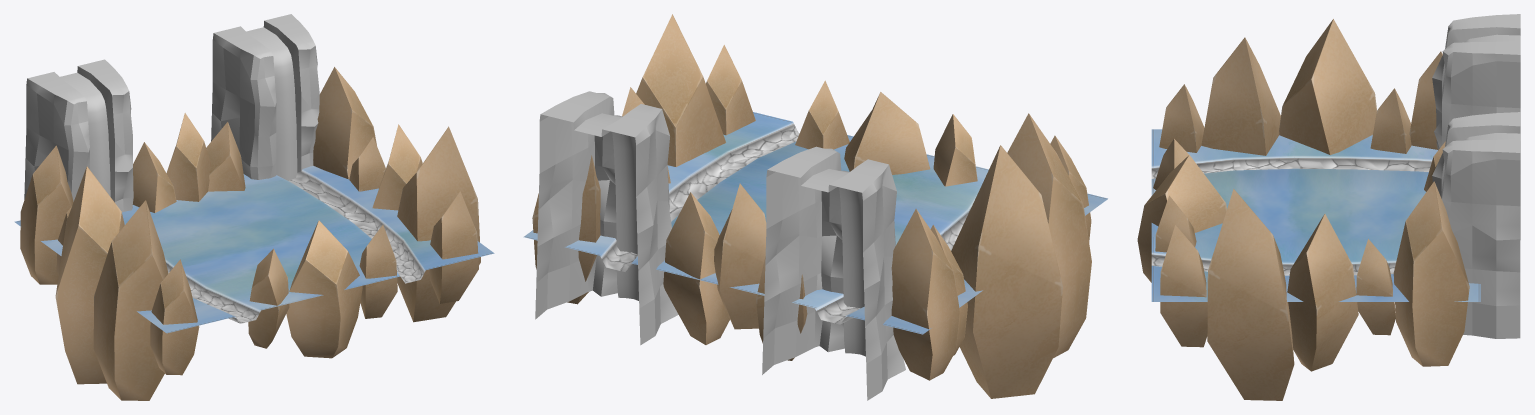
File: water_stage.fbx
3 renders of one model, left to right at view 1: azimuth 30°, elevation 25°; view 2: azimuth 150°, elevation 25°; view 3: azimuth 270°, elevation 25°, orthographic. The views are drawn at different scales.
Visible parts, largest first — view 1: water_stage, waterfall_moderu3, waterfall_moderu2, rock_moderu10, rock_moderu9, rock_moderu16, rock_moderu11, rock_moderu4, rock_moderu5, rock_moderu12, rock_moderu13, rock_moderu14 (+6 smaller); view 2: waterfall_moderu2, waterfall_moderu3, rock_moderu9, water_stage, rock_moderu4, rock_moderu10, rock_moderu11, rock_moderu2, rock_moderu1, rock_moderu16, rock_moderu13, rock_moderu14 (+5 smaller); view 3: water_stage, waterfall_moderu3, rock_moderu11, rock_moderu5, waterfall_moderu2, rock_moderu9, rock_moderu8, rock_moderu10, rock_moderu13, rock_moderu16, rock_moderu7, rock_moderu12 (+4 smaller).
Part boxes in pixels (box(x1,y1,x2,y2)): water_stage: box(14, 165, 494, 333); waterfall_moderu3: box(211, 14, 319, 180); waterfall_moderu2: box(24, 59, 133, 212); rock_moderu10: box(93, 200, 168, 400); rock_moderu9: box(55, 166, 124, 384); rock_moderu16: box(286, 220, 362, 358); rock_moderu11: box(397, 126, 480, 322); rock_moderu4: box(20, 145, 73, 284); rock_moderu5: box(313, 67, 376, 179); rock_moderu12: box(150, 259, 199, 375); rock_moderu13: box(429, 191, 478, 303); rock_moderu14: box(248, 248, 289, 348); waterfall_moderu2: box(762, 146, 905, 400); waterfall_moderu3: box(535, 91, 678, 345); rock_moderu9: box(951, 145, 1062, 398); water_stage: box(523, 112, 1107, 334); rock_moderu4: box(891, 209, 959, 380); rock_moderu10: box(1007, 113, 1091, 358); rock_moderu11: box(636, 14, 725, 166); rock_moderu2: box(663, 192, 729, 344); rock_moderu1: box(714, 183, 766, 329); rock_moderu16: box(844, 92, 930, 174); rock_moderu13: box(706, 45, 755, 135); rock_moderu14: box(933, 114, 977, 186); water_stage: box(1151, 129, 1480, 301); waterfall_moderu3: box(1432, 112, 1520, 338); rock_moderu11: box(1207, 189, 1294, 400); rock_moderu5: box(1393, 181, 1469, 366); waterfall_moderu2: box(1432, 14, 1520, 239); rock_moderu9: box(1279, 19, 1376, 154); rock_moderu8: box(1287, 214, 1358, 371); rock_moderu10: box(1201, 37, 1280, 155); rock_moderu13: box(1160, 225, 1207, 347); rock_moderu16: box(1137, 155, 1226, 282); rock_moderu7: box(1356, 239, 1395, 335); rock_moderu12: box(1159, 84, 1204, 152).
Size of the model in its own units: 1179 by 663 by 949.
